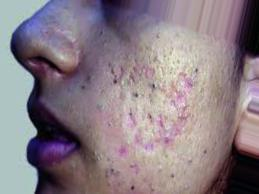Acne: (169, 64, 198, 108), (145, 78, 169, 108), (124, 84, 151, 108), (80, 73, 98, 94), (108, 75, 125, 97), (164, 167, 183, 186), (127, 175, 146, 194), (197, 147, 215, 164), (105, 161, 119, 181)
